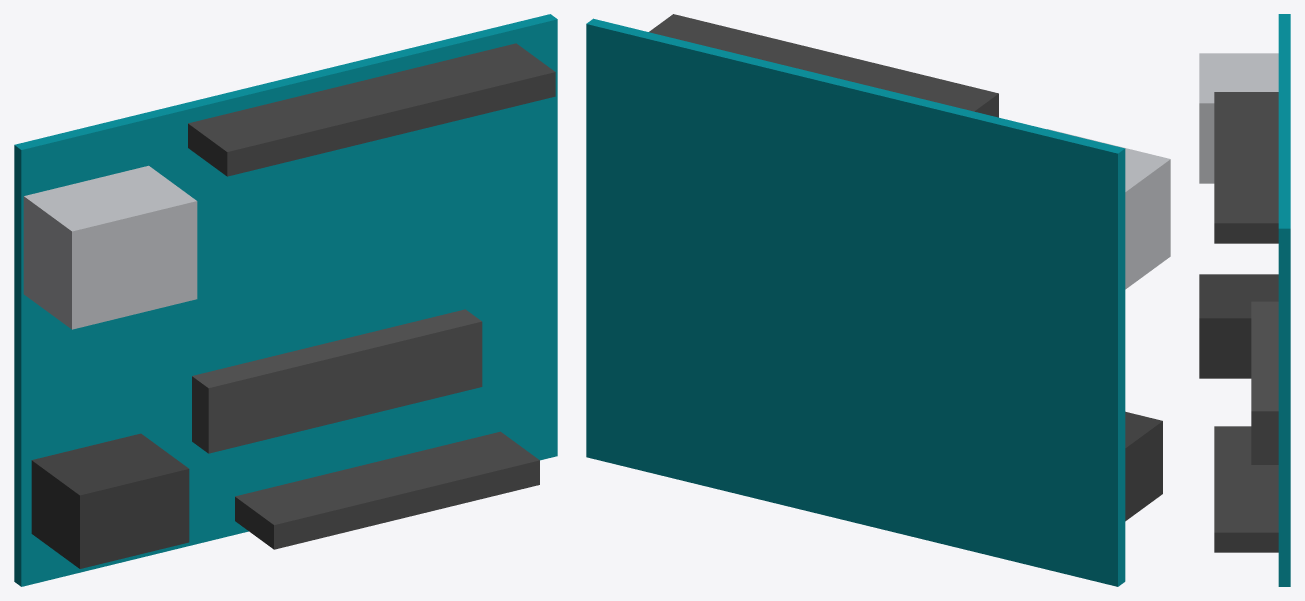
The model's file is lab-electronica-arduino_uno.glb.
The picture shows the model from 3 angles, left to right: view 1: azimuth 30°, elevation 25°; view 2: azimuth 150°, elevation 25°; view 3: azimuth 270°, elevation 25°; orthographic projection. The views are drawn at different scales.
Parts seen in each view (by area): view 1: sustrato_pcb, chip_atmega328p, puerto_usb_b, headers_digitales, headers_analogicos, jack_alimentacion; view 2: sustrato_pcb, headers_digitales, puerto_usb_b, jack_alimentacion; view 3: headers_digitales, sustrato_pcb, headers_analogicos, jack_alimentacion, chip_atmega328p, puerto_usb_b.
Part boxes in pixels (left/top/right/bottom): sustrato_pcb: left=14, top=14, right=557, bottom=586; chip_atmega328p: left=192, top=309, right=482, bottom=453; puerto_usb_b: left=23, top=165, right=197, bottom=329; headers_digitales: left=188, top=43, right=555, bottom=176; headers_analogicos: left=235, top=431, right=539, bottom=549; jack_alimentacion: left=31, top=433, right=189, bottom=568; sustrato_pcb: left=586, top=18, right=1125, bottom=586; headers_digitales: left=649, top=14, right=998, bottom=117; puerto_usb_b: left=1046, top=129, right=1170, bottom=289; jack_alimentacion: left=1125, top=411, right=1162, bottom=521; headers_digitales: left=1214, top=92, right=1278, bottom=243; sustrato_pcb: left=1278, top=14, right=1290, bottom=586; headers_analogicos: left=1214, top=426, right=1278, bottom=552; jack_alimentacion: left=1199, top=274, right=1278, bottom=378; chip_atmega328p: left=1251, top=301, right=1278, bottom=464; puerto_usb_b: left=1199, top=53, right=1278, bottom=183.
Bounding box in the file's own units: 68.6 × 53.4 × 12.3.
